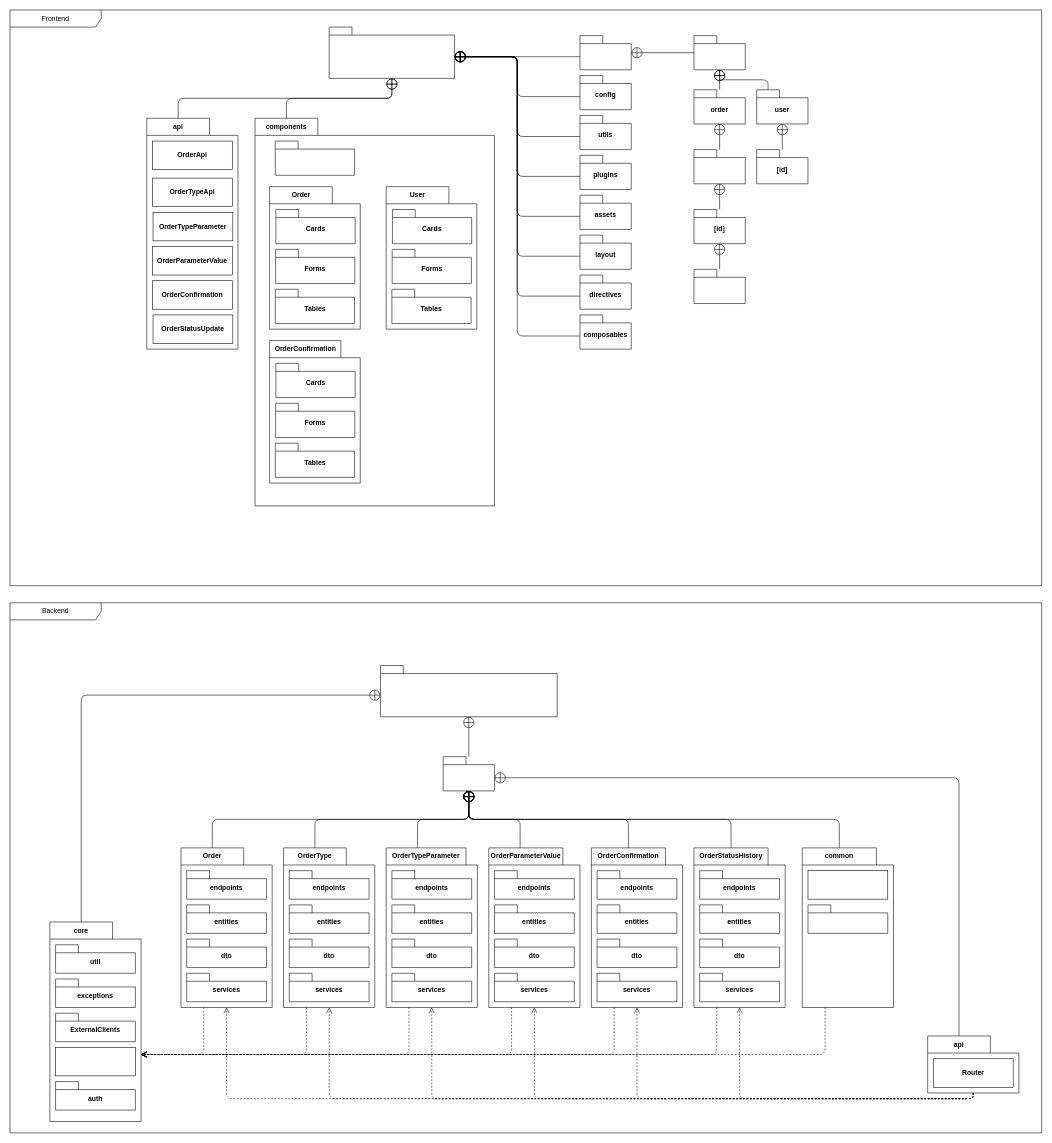
The diagram is 1052 pixels wide and 1143 high, and some of its shapes have lost their labels. Each missing label, with the centre of its shape:
"[type]" belongs at point 719,166.
"app" belongs at point 468,691.
"BaseService" belongs at point 847,884.
"confirmation" belongs at point 719,286.
"db" belongs at point 847,918.
"features" belongs at point 468,773.
"main" belongs at point 719,52.
"messages" belongs at point 95,1061.
"pages" belongs at point 605,52.
"src" belongs at point 392,52.
"ui" belongs at point 315,158.
